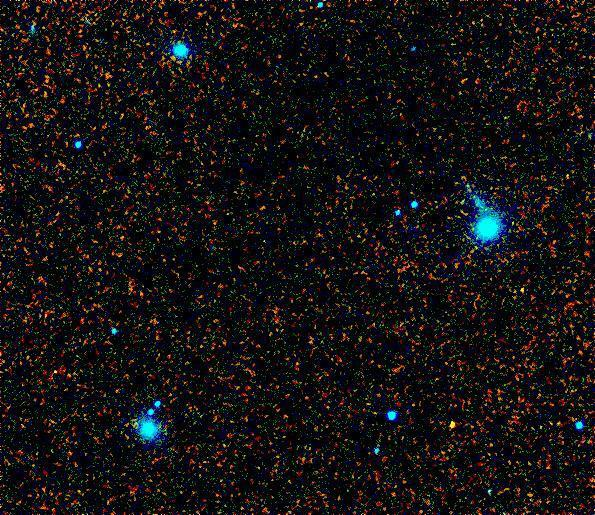star: (437, 408, 467, 438)
